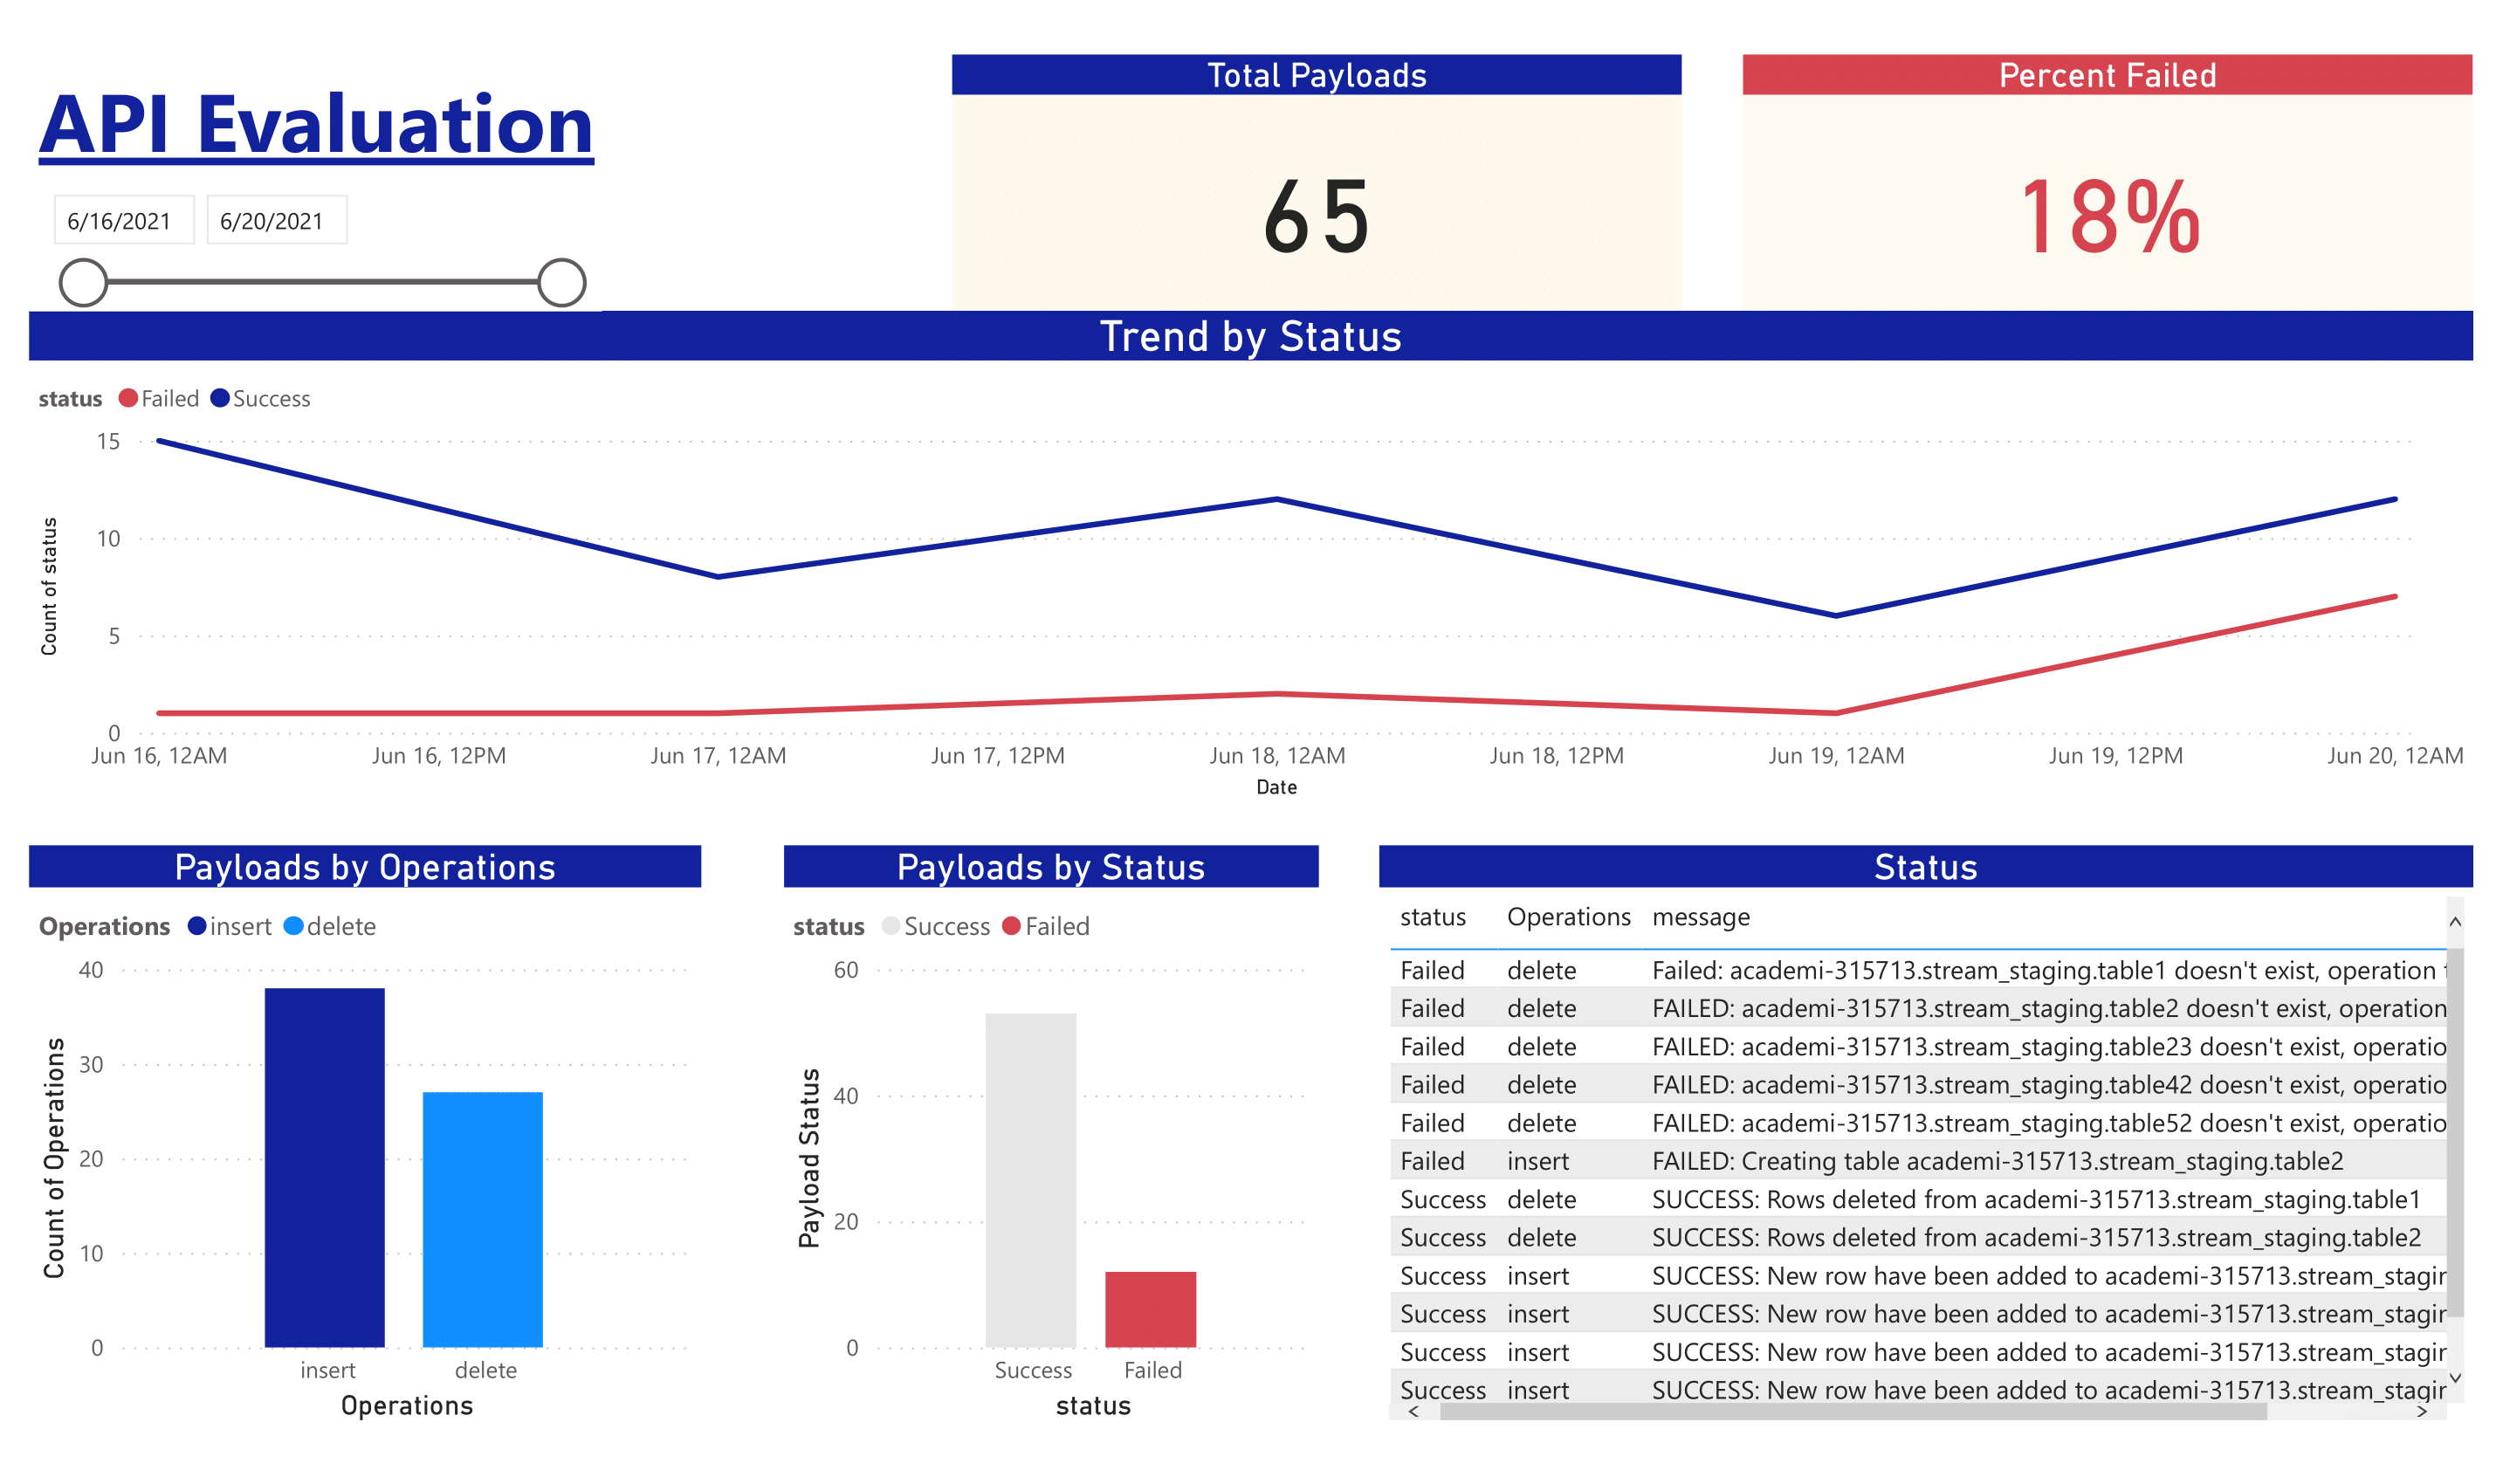

The dashboard page shown, as its layout file describes it:
{"tool":"powerbi","page":{"name":"Page 1","canvas":[1280,720],"ordinal":0},"visuals":[{"type":"columnChart","title":"Payloads by Status","fields":{"Category":["logs.status"],"Y":["CountNonNull(logs.status)"],"Series":["logs.status"]},"box":[395.4,414.1,279.9,305.9],"z":0},{"type":"lineChart","title":"Trend by Status","fields":{"Y":["CountNonNull(logs.status)"],"Series":["logs.status"],"Category":["logs.Date"]},"box":[0,134.2,1279.8,259.7],"z":1000},{"type":"columnChart","title":"Payloads by Operations","fields":{"Y":["CountNonNull(logs.Operations)"],"Category":["logs.Operations"],"Series":["logs.Operations"]},"box":[0,414.1,352.1,305.9],"z":2000},{"type":"card","title":"Total Payloads","fields":{"Values":["CountNonNull(logs.payloads)"]},"box":[483.4,0,382.4,134.2],"z":3000},{"type":"card","title":"Percent Failed","fields":{"Values":["logs.% Failed"]},"box":[897.5,0,382.4,134.2],"z":4000},{"type":"textbox","box":[0,0,342,67.8],"z":4001},{"type":"tableEx","title":"Status","fields":{"Values":["logs.status","logs.Operations","logs.message"]},"box":[707,414.1,572.8,305.9],"z":4002},{"type":"slicer","fields":{"Values":["logs.Date"]},"box":[0,63.5,300.1,70.7],"z":4003}]}

Visuals, with their boxes on the page's 1280x720 design canvas (x1, y1, x2, y2). These are canvas units, not pixel positions in the 2503x1484 screenshot, which may show the page scaled, cropped or inside an application window:
"Payloads by Status" columnChart: bbox=(395, 414, 675, 720)
"Trend by Status" lineChart: bbox=(0, 134, 1280, 394)
"Payloads by Operations" columnChart: bbox=(0, 414, 352, 720)
"Total Payloads" card: bbox=(483, 0, 866, 134)
"Percent Failed" card: bbox=(898, 0, 1280, 134)
textbox: bbox=(0, 0, 342, 68)
"Status" tableEx: bbox=(707, 414, 1280, 720)
slicer - logs.Date: bbox=(0, 64, 300, 134)
